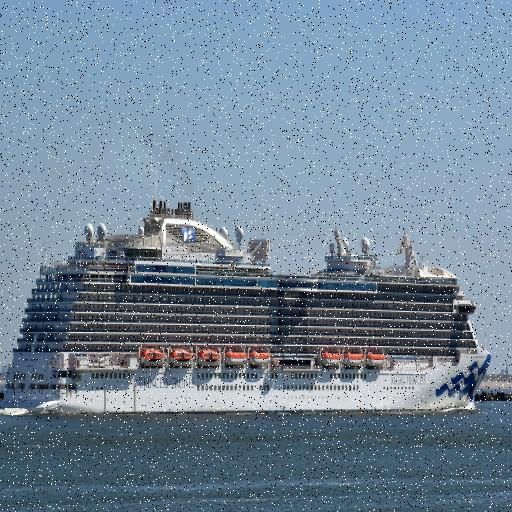cruises: (1, 192, 494, 426)
